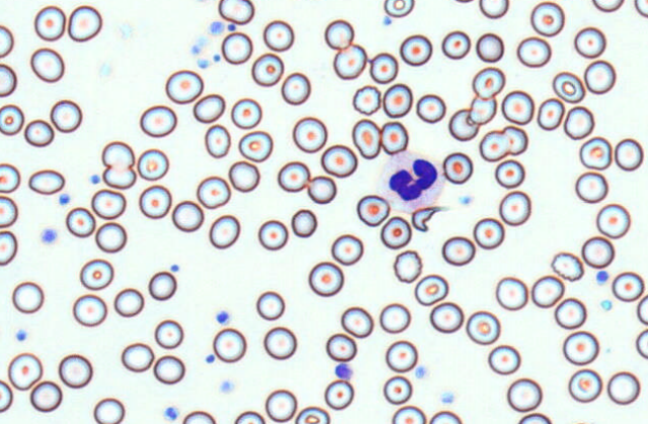GRAN: (378, 151, 443, 212)
PLT: (334, 361, 354, 379), (39, 225, 56, 245), (216, 308, 232, 325), (161, 405, 178, 421), (595, 269, 610, 285), (220, 381, 237, 395), (57, 191, 72, 206), (441, 390, 456, 404), (211, 20, 224, 36), (194, 57, 210, 69), (414, 365, 426, 380), (89, 172, 101, 185), (189, 44, 201, 56), (205, 354, 218, 365), (601, 299, 612, 312), (16, 329, 27, 341), (211, 52, 222, 63), (170, 262, 180, 273), (381, 16, 391, 25), (227, 24, 238, 32)
RBC: (7, 352, 43, 390), (165, 69, 203, 104), (292, 116, 327, 153), (67, 5, 102, 42), (562, 330, 599, 365), (506, 377, 542, 412), (320, 144, 357, 178), (139, 104, 177, 137), (351, 118, 381, 159), (308, 261, 343, 296), (465, 310, 500, 345), (333, 43, 367, 79), (530, 1, 564, 37), (30, 47, 64, 82), (58, 353, 92, 388), (212, 327, 246, 362), (596, 203, 630, 238), (568, 368, 602, 402), (501, 90, 534, 125), (72, 293, 107, 326), (138, 184, 171, 219), (498, 190, 531, 225), (583, 59, 616, 94), (33, 5, 65, 41), (251, 52, 284, 86), (196, 175, 230, 208), (531, 274, 564, 308), (607, 371, 640, 405), (495, 276, 528, 310), (579, 136, 612, 170), (264, 388, 297, 422), (208, 214, 240, 249), (238, 130, 273, 162), (472, 66, 505, 99), (263, 326, 296, 359), (581, 235, 614, 268), (414, 274, 448, 306), (356, 194, 390, 226), (79, 258, 113, 290), (429, 301, 463, 333), (516, 36, 551, 67), (91, 188, 126, 219), (277, 160, 310, 192), (399, 34, 432, 66), (29, 380, 62, 412), (552, 71, 585, 103), (340, 306, 373, 338), (11, 281, 44, 313), (575, 171, 608, 203), (50, 99, 82, 132), (385, 339, 417, 372), (563, 105, 594, 139), (441, 235, 475, 266), (382, 83, 412, 118), (228, 160, 260, 192), (262, 19, 294, 51), (230, 97, 262, 129), (331, 233, 363, 265), (137, 148, 169, 180), (171, 200, 203, 232), (554, 297, 586, 329), (574, 26, 606, 58), (448, 108, 479, 141), (221, 31, 252, 64), (380, 216, 411, 249), (487, 344, 520, 375), (611, 271, 644, 302), (550, 251, 584, 281), (442, 152, 473, 184), (95, 221, 126, 253), (473, 217, 504, 249), (101, 140, 134, 170), (192, 93, 225, 123), (121, 342, 154, 372), (393, 249, 422, 283), (281, 71, 310, 105), (28, 168, 64, 195), (479, 130, 510, 161), (257, 219, 288, 250), (379, 302, 410, 333), (153, 354, 185, 384), (614, 138, 643, 171), (324, 19, 354, 50), (65, 206, 95, 237), (325, 332, 356, 362), (324, 379, 354, 410), (113, 287, 144, 317), (380, 121, 408, 154), (536, 97, 564, 130), (218, 0, 254, 25), (416, 93, 446, 123), (352, 84, 381, 115), (369, 52, 398, 83), (204, 124, 230, 158), (494, 159, 524, 188), (475, 32, 504, 62), (256, 290, 285, 320), (382, 375, 412, 404), (154, 319, 183, 349), (307, 175, 336, 204), (441, 30, 470, 59), (24, 119, 54, 147), (148, 270, 176, 300), (501, 125, 528, 155), (93, 397, 124, 423), (102, 166, 136, 189), (0, 103, 24, 135), (291, 208, 317, 237), (294, 405, 330, 423), (391, 405, 426, 423), (0, 162, 20, 193), (0, 230, 17, 265), (0, 63, 17, 97), (0, 195, 18, 227), (479, 0, 509, 18), (383, 0, 414, 17), (0, 24, 14, 58), (0, 379, 13, 412), (429, 410, 462, 423), (182, 410, 215, 423), (234, 410, 265, 423), (591, 0, 624, 12), (517, 412, 551, 423), (635, 328, 647, 359), (636, 294, 647, 325), (634, 0, 648, 17), (568, 420, 594, 424), (452, 0, 474, 3)
Schistocyte: (470, 95, 496, 125), (412, 207, 437, 232)
